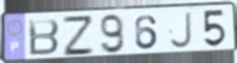5: (202, 8, 228, 49)
6: (134, 14, 160, 51)
9: (99, 13, 127, 55)
B: (27, 17, 61, 57)
J: (168, 10, 194, 50)
Z: (61, 15, 96, 58)
